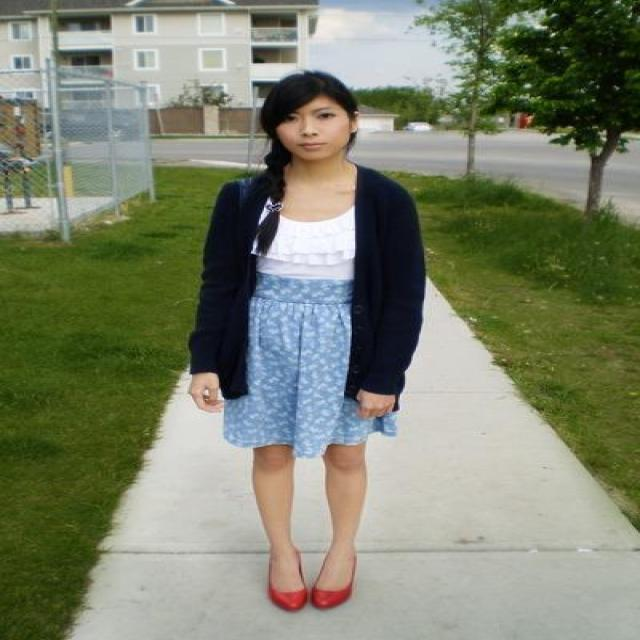jacket: (189, 166, 424, 396)
shirt: (262, 218, 354, 282)
shoe: (268, 579, 350, 612)
skirt: (222, 269, 392, 447)
